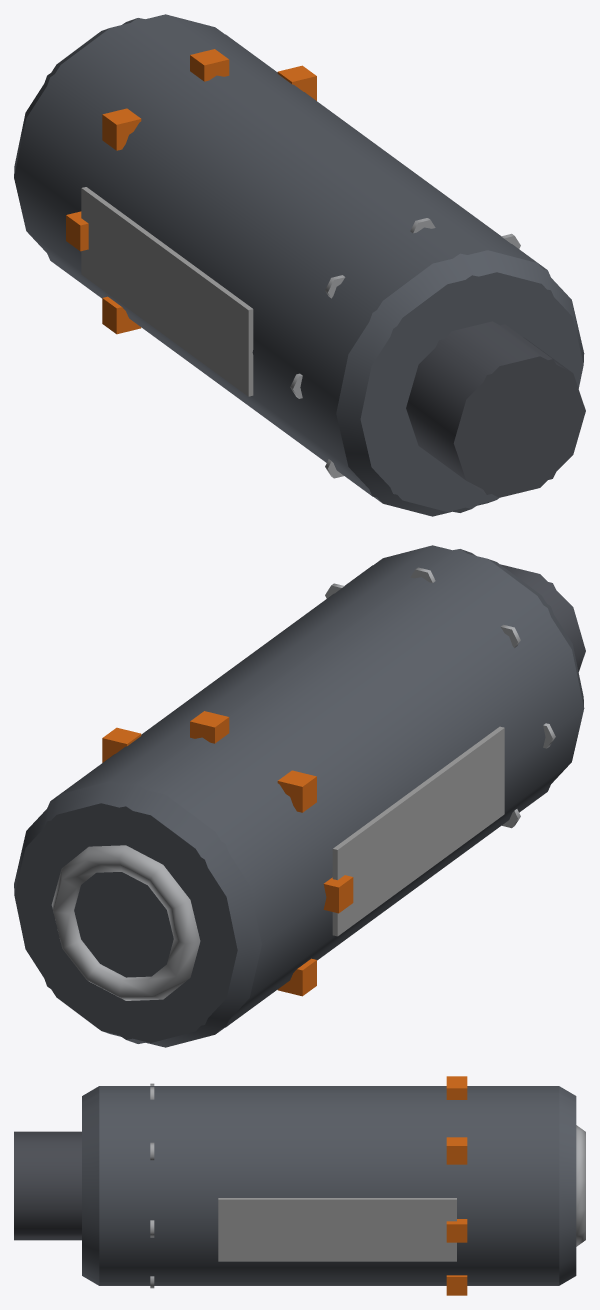
The model's file is gr_blinder.glb.
3 renders of one model, top to bottom at view 1: azimuth 30°, elevation 25°; view 2: azimuth 150°, elevation 25°; view 3: azimuth 270°, elevation 25°, orthographic. The views are drawn at different scales.
Parts seen in each view (by area): view 1: L0, L1; view 2: L0, L1; view 3: L0, L1.
Boxes of the visible parts, x1,y1,x2,y2 form: L0: [14, 14, 585, 516]; L1: [44, 18, 585, 512]; L0: [14, 545, 585, 1047]; L1: [15, 549, 556, 1043]; L0: [14, 1076, 585, 1295]; L1: [14, 1093, 576, 1281].
Bounding box in the file's own units: 0.066 × 0.066 × 0.1679.
